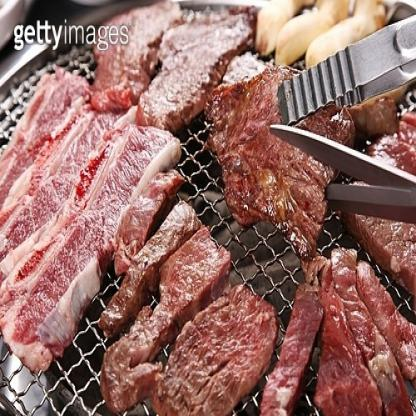Carne: (106, 221, 238, 415), (214, 78, 331, 251), (149, 287, 278, 415)
